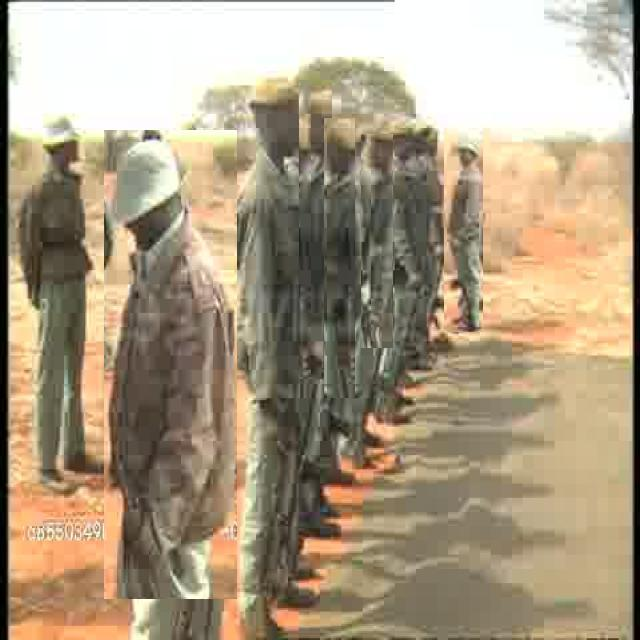poacher: (104, 130, 237, 599), (230, 79, 302, 582), (17, 87, 104, 493), (299, 80, 332, 379), (324, 118, 355, 398), (444, 126, 483, 332), (362, 134, 394, 348)
